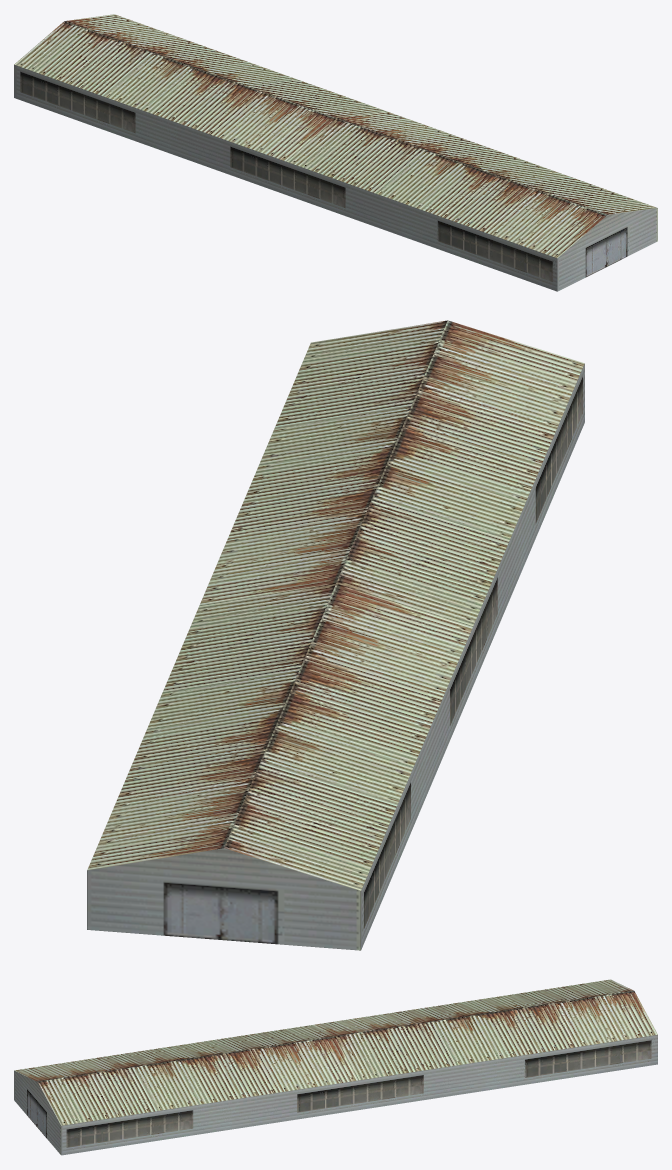
Rendered from llmg_bld10.gltf.
3 views of the same model, one above another, from view 1: azimuth 30°, elevation 25°; view 2: azimuth 150°, elevation 25°; view 3: azimuth 270°, elevation 25° (orthographic). The views are drawn at different scales.
Visible parts, largest first — view 1: node1; view 2: node1; view 3: node1.
Part boxes in pixels (left/top/right/bottom): node1: left=14, top=14, right=657, bottom=291; node1: left=87, top=320, right=584, bottom=950; node1: left=14, top=979, right=657, bottom=1155.
Bounding box in the file's own units: 30.81 × 4.52 × 57.3.
